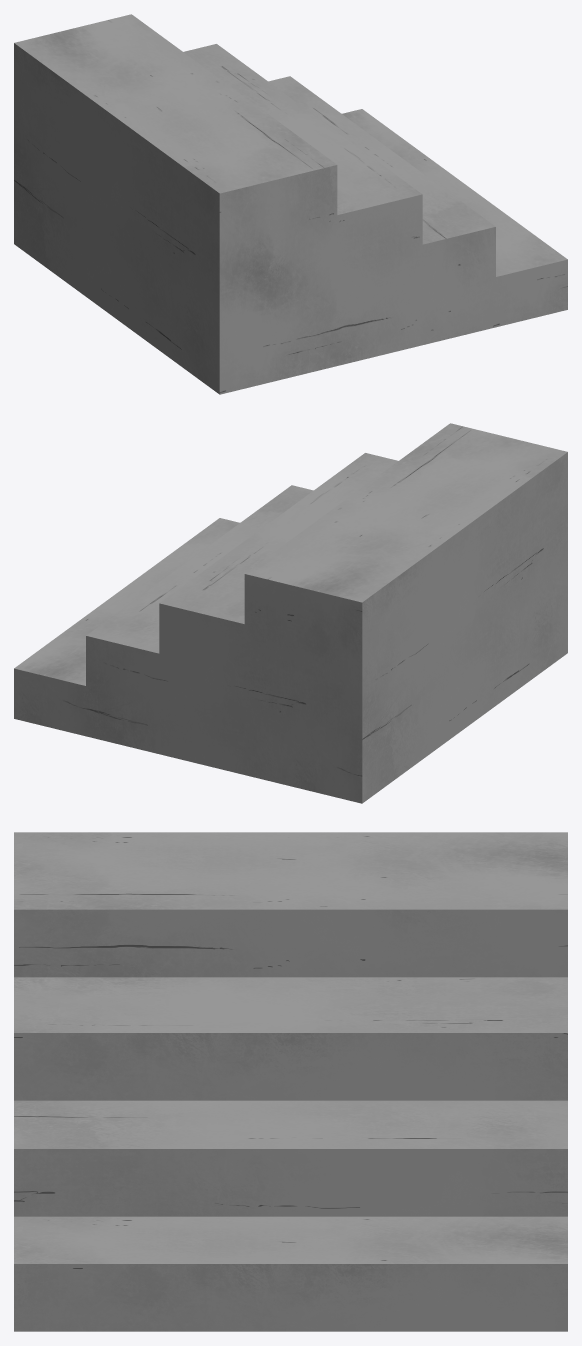
Rendered from FBX_stairs.fbx.
3 views of the same model, one above another, from view 1: azimuth 30°, elevation 25°; view 2: azimuth 150°, elevation 25°; view 3: azimuth 270°, elevation 25° (orthographic). The views are drawn at different scales.
Parts seen in each view (by area): view 1: stairs.001; view 2: stairs.001; view 3: stairs.001.
Part boxes in pixels (box(x1,y1,x2,y2)): stairs.001: box(14, 14, 567, 394); stairs.001: box(14, 423, 567, 803); stairs.001: box(14, 832, 567, 1331).
Size of the model in its own units: 139 by 76.82 by 142.
